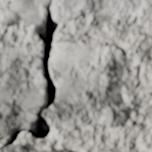brick: (0, 145, 38, 151), (48, 150, 66, 151)
broken_brick: (44, 41, 131, 131), (0, 42, 45, 136), (2, 0, 151, 27)
crack: (0, 2, 59, 149)
